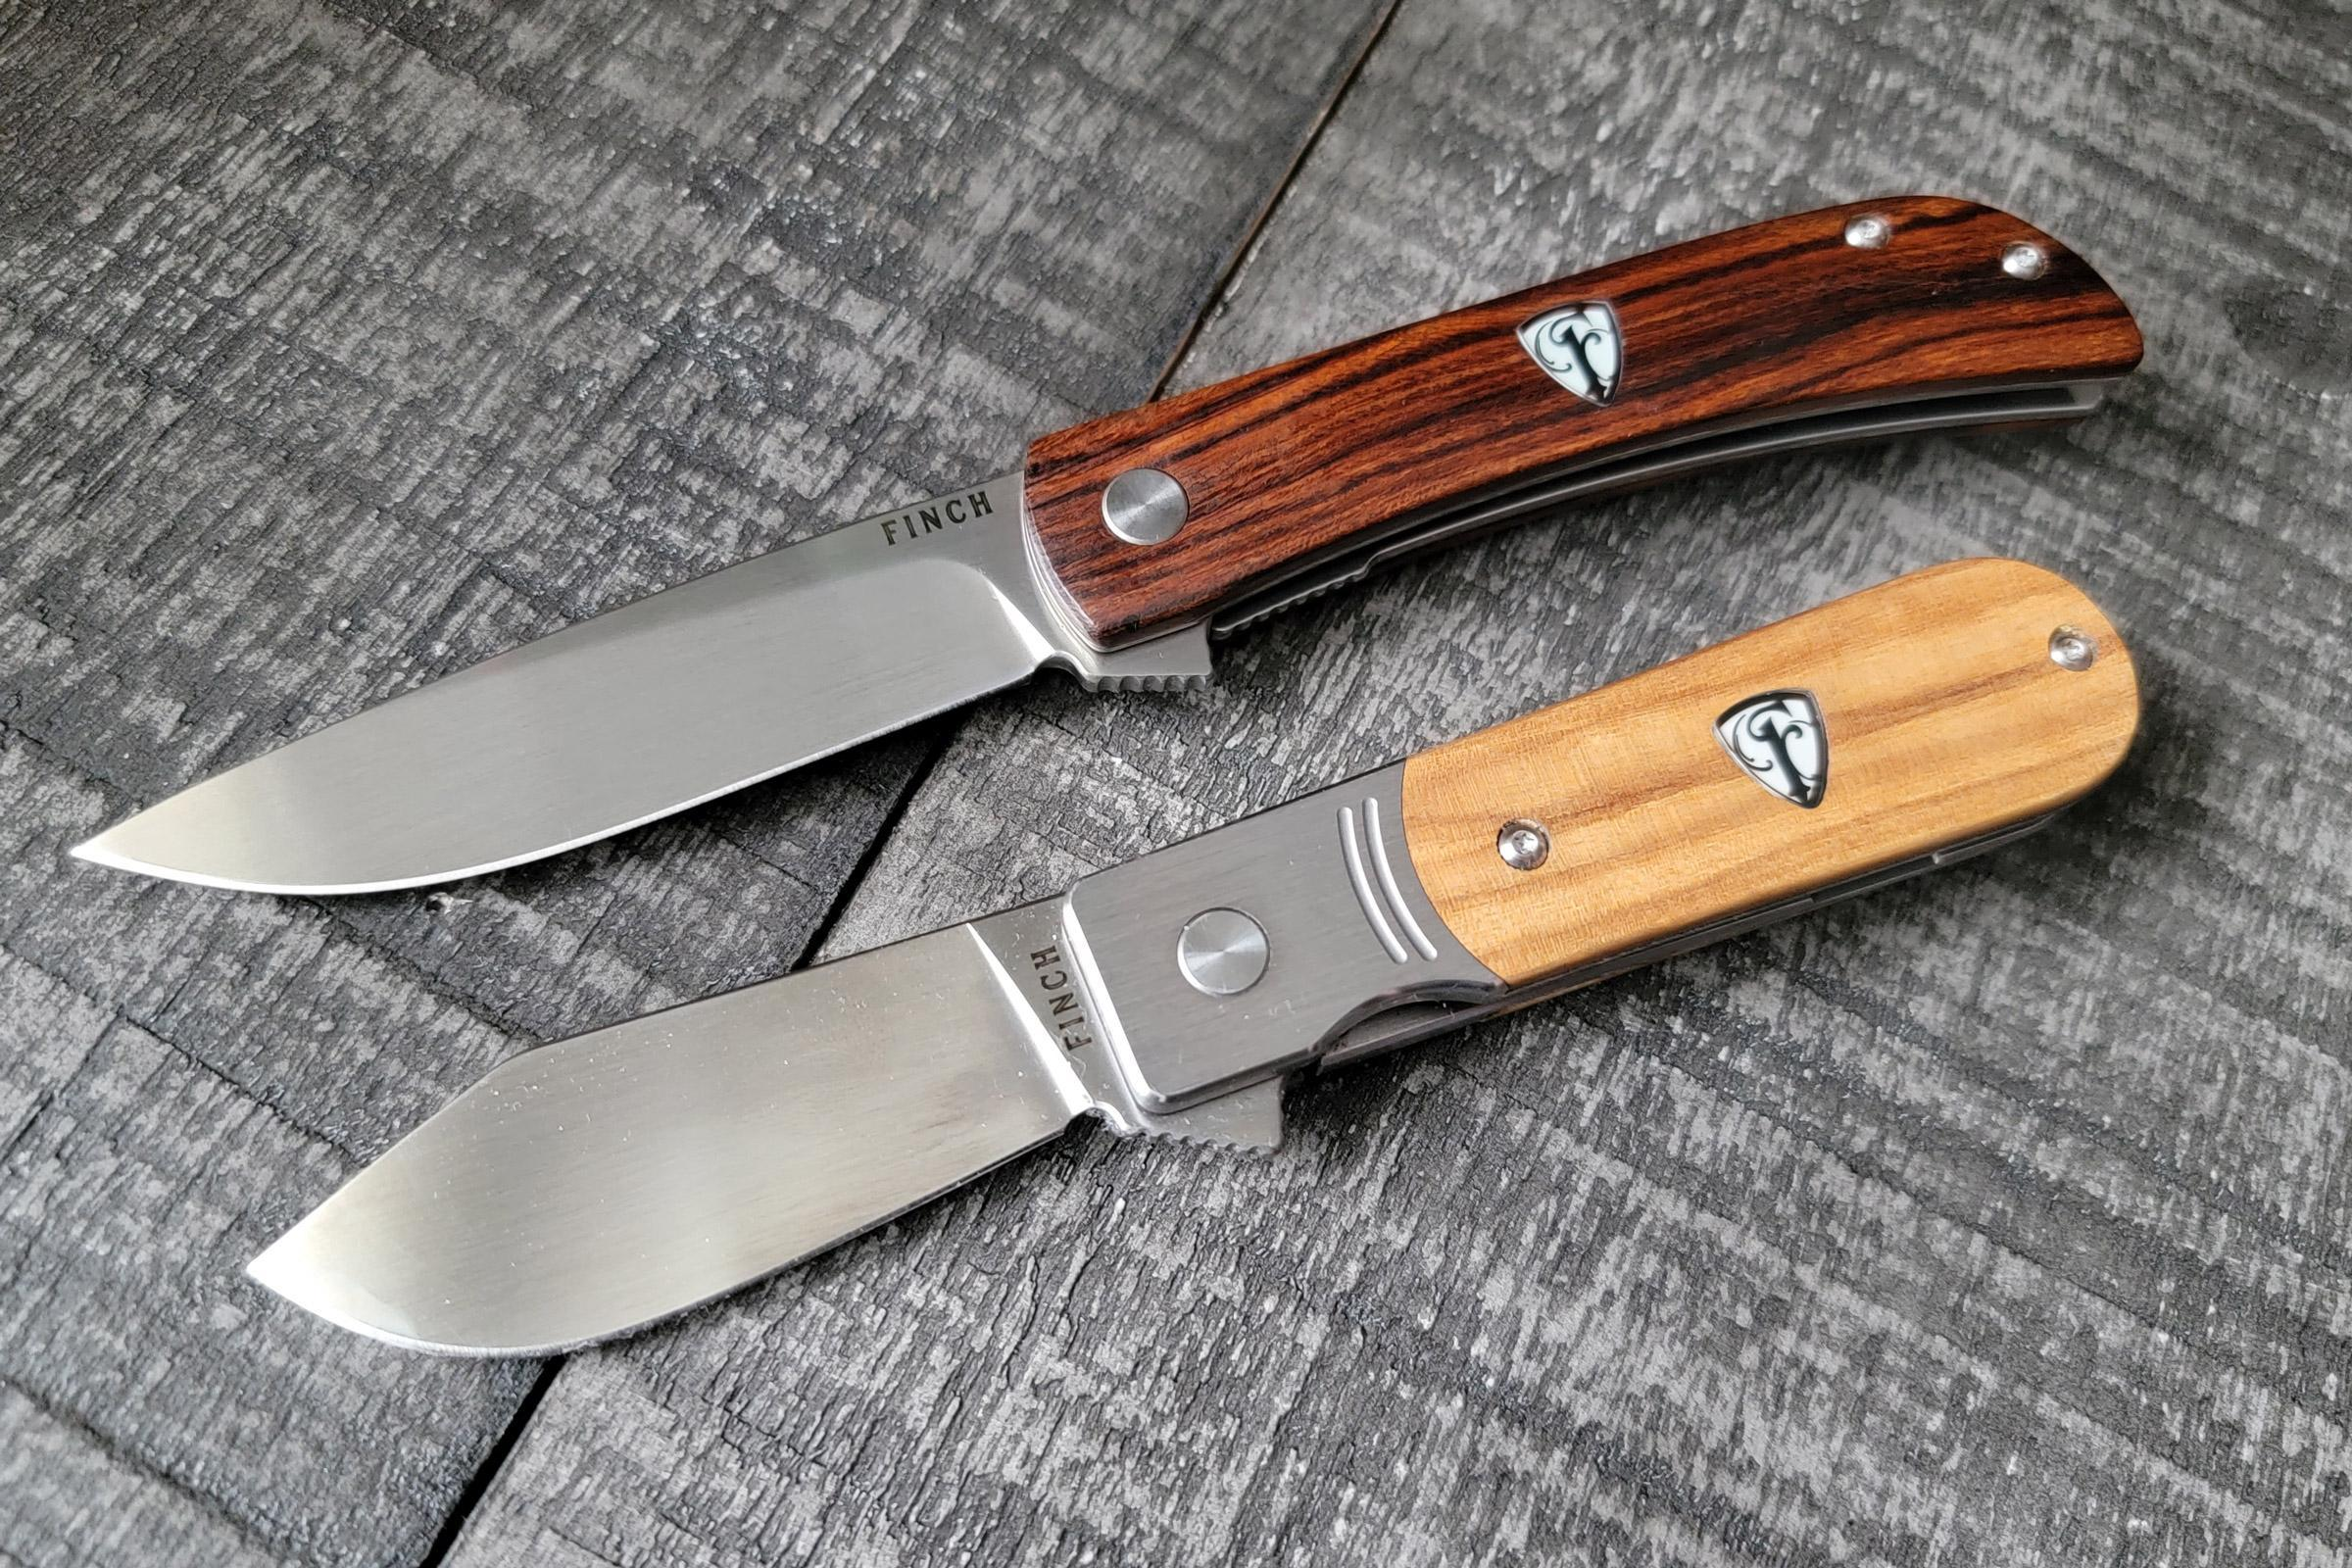faca: (248, 558, 2138, 1354), (75, 194, 2142, 894)
